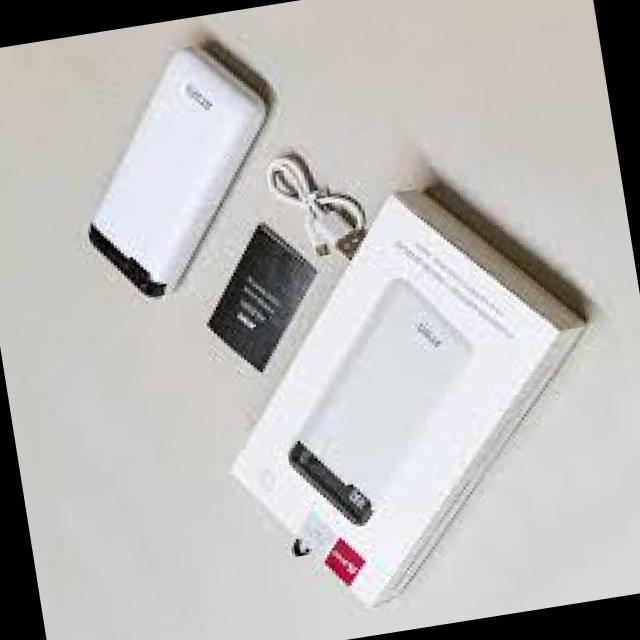power_bank: (53, 23, 304, 310), (262, 265, 500, 540)
